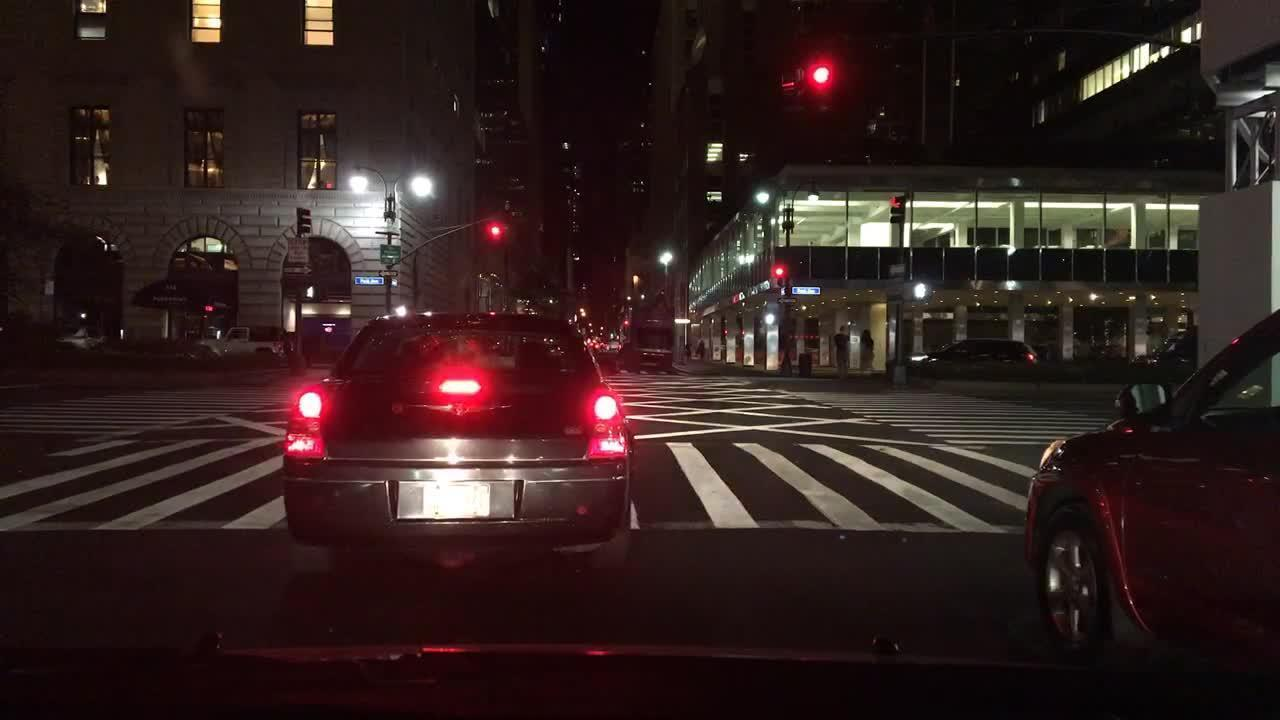Chrysler: (405, 396, 512, 419)
